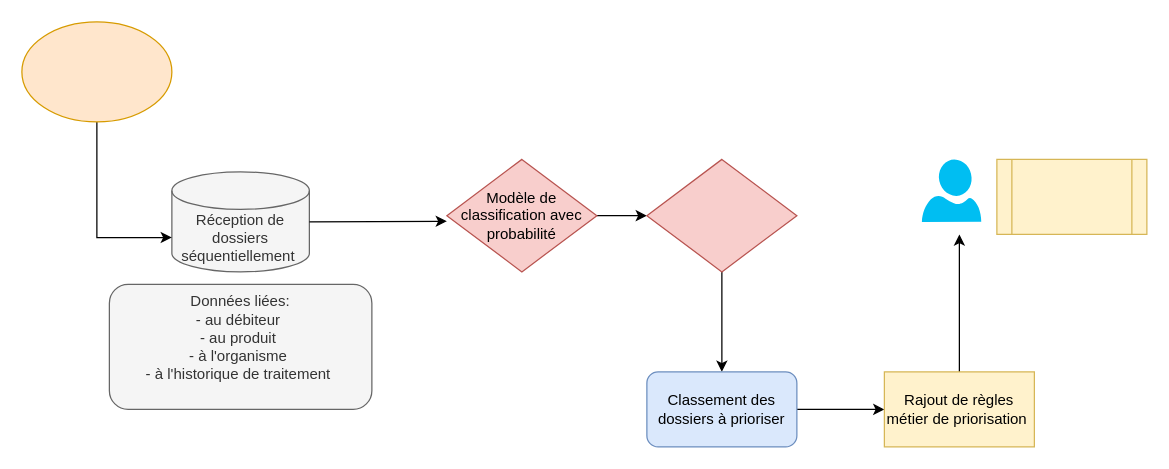
The diagram is 1169 pixels wide and 469 high, and some of its shapes have lost their labels. Each missing label, with the centre of its shape:
"BNP PF" goes at (x=96, y=71).
"Calibrage du modèle" goes at (x=721, y=215).
"Traitement des dossiers par ordre de priorité" goes at (x=1071, y=196).
